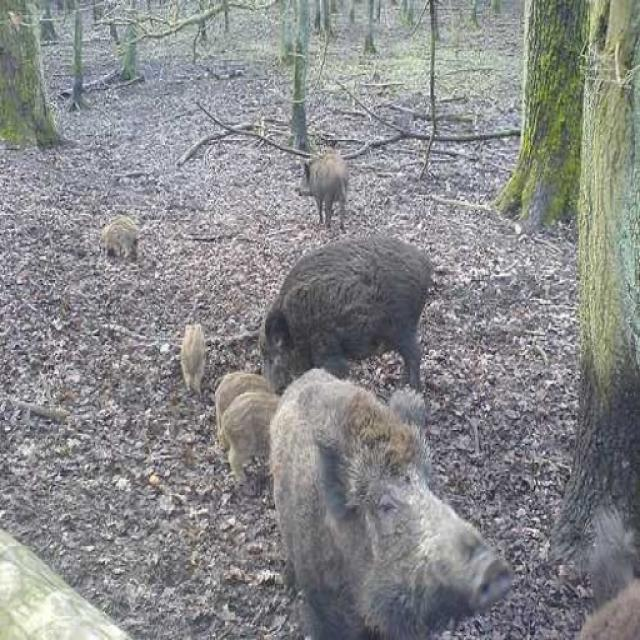pig: (235, 342, 516, 640), (191, 199, 483, 388)
